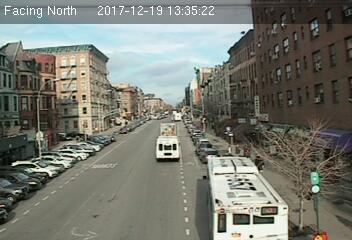bus: (204, 155, 288, 240)
car: (200, 147, 221, 163)
truck: (156, 136, 181, 163), (158, 121, 177, 137)
